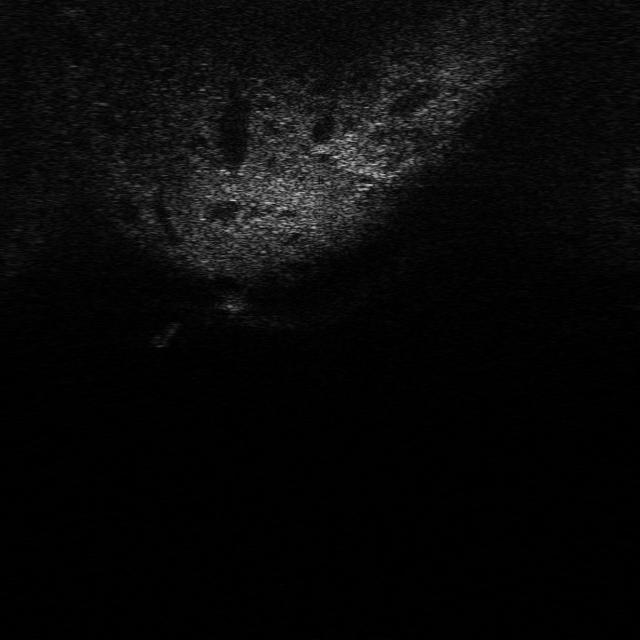cube: (210, 288, 250, 316)
cylinder: (148, 317, 182, 350)
